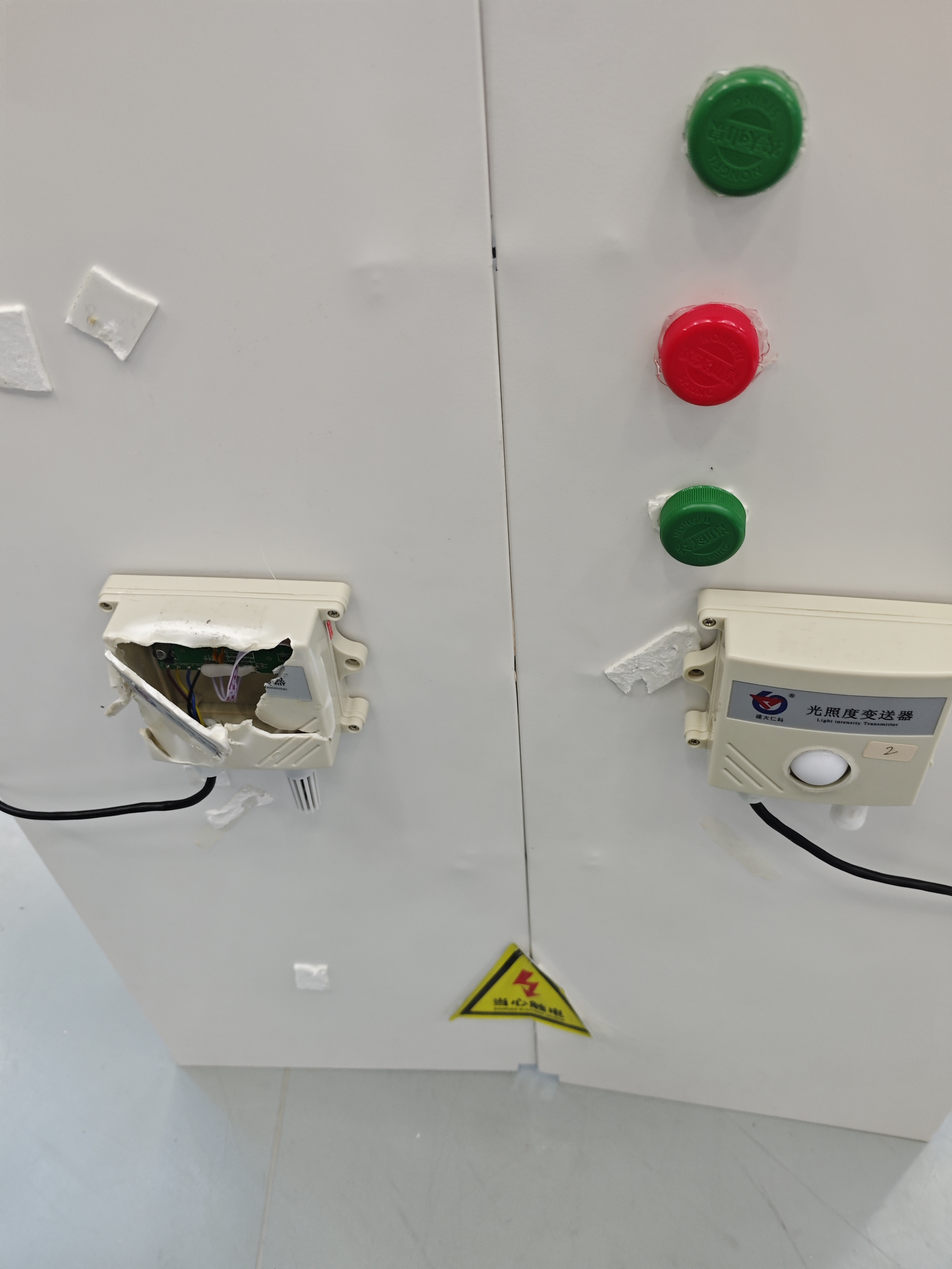red_warning: (632, 280, 815, 414)
sensor_damage: (52, 521, 385, 846)
